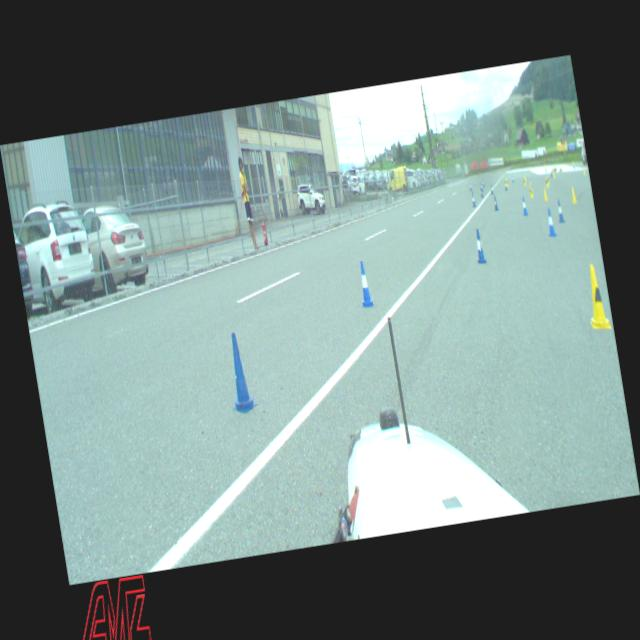blue_cone: (222, 332, 258, 414), (355, 260, 375, 308), (473, 228, 487, 264), (544, 208, 556, 237), (556, 199, 566, 223), (520, 196, 528, 216), (493, 194, 499, 210), (471, 194, 476, 206), (490, 185, 493, 194), (480, 188, 483, 197)
yellow_cone: (582, 264, 612, 332), (570, 187, 577, 204), (528, 184, 534, 198), (542, 187, 548, 200), (546, 178, 548, 188)
